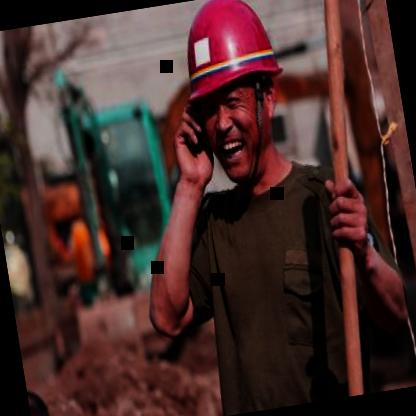head: (25, 381, 55, 416)
helmet: (163, 0, 310, 194)
